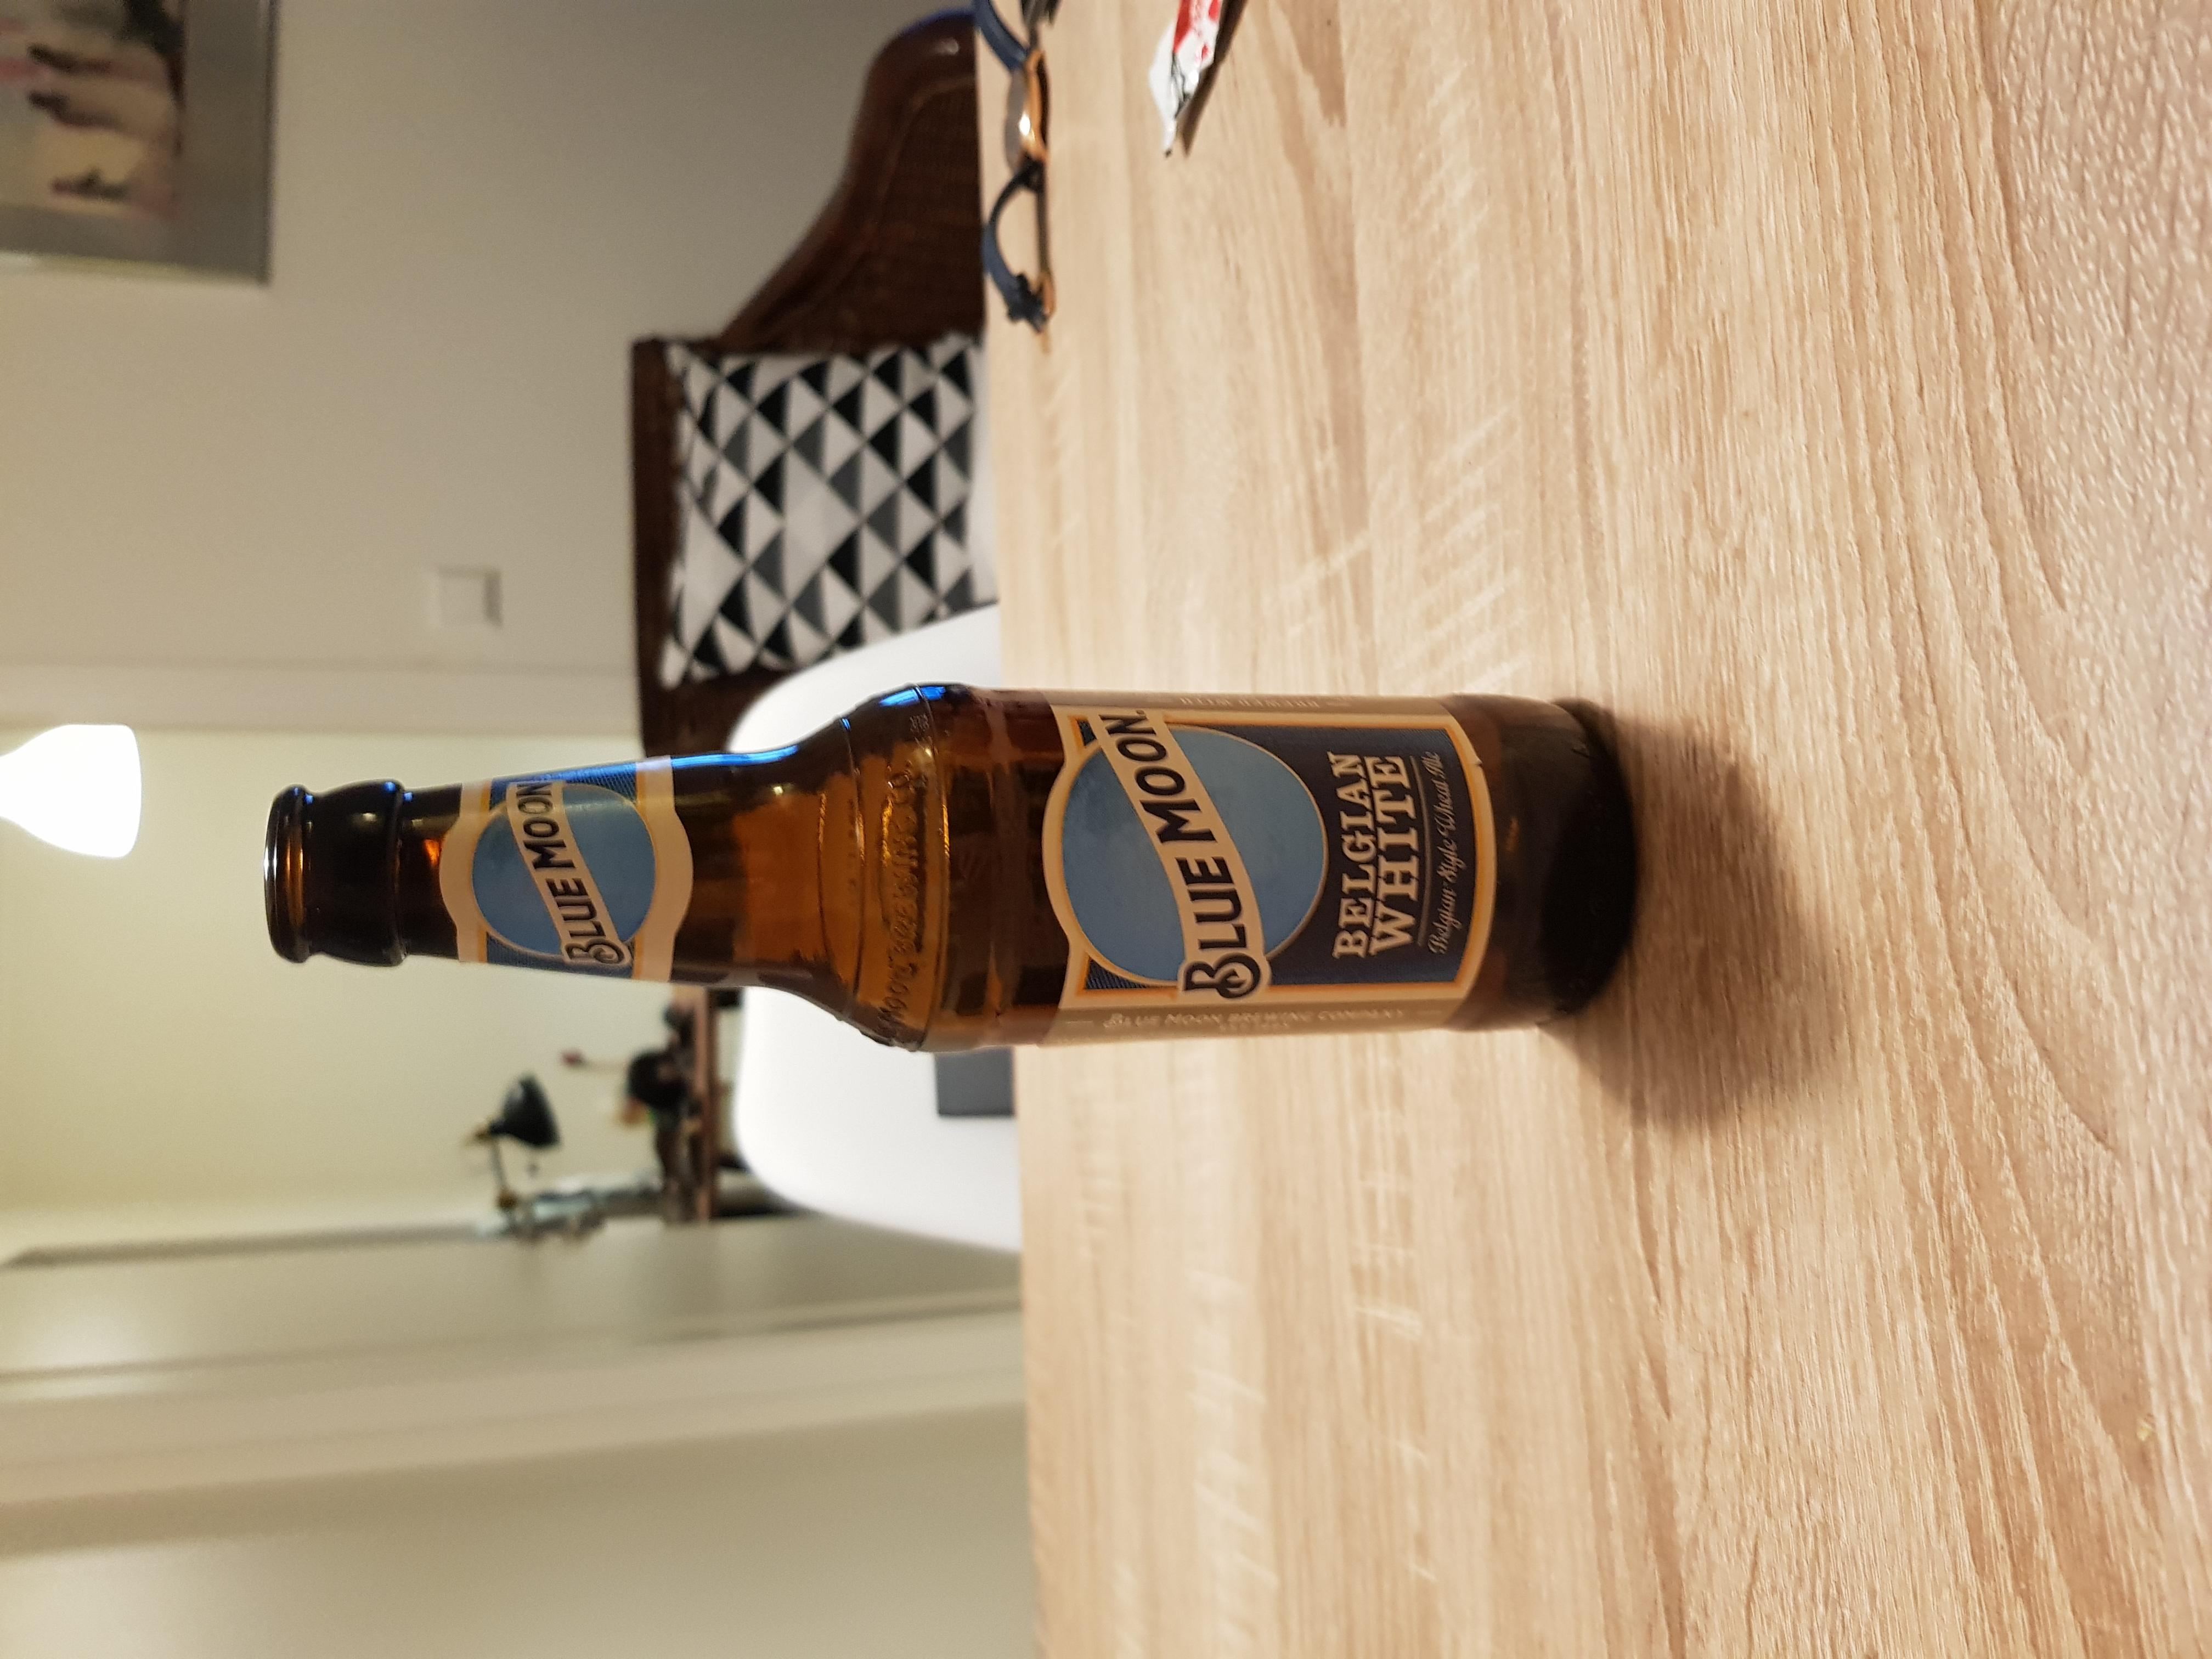Bottle: (261, 676, 1639, 1061)
